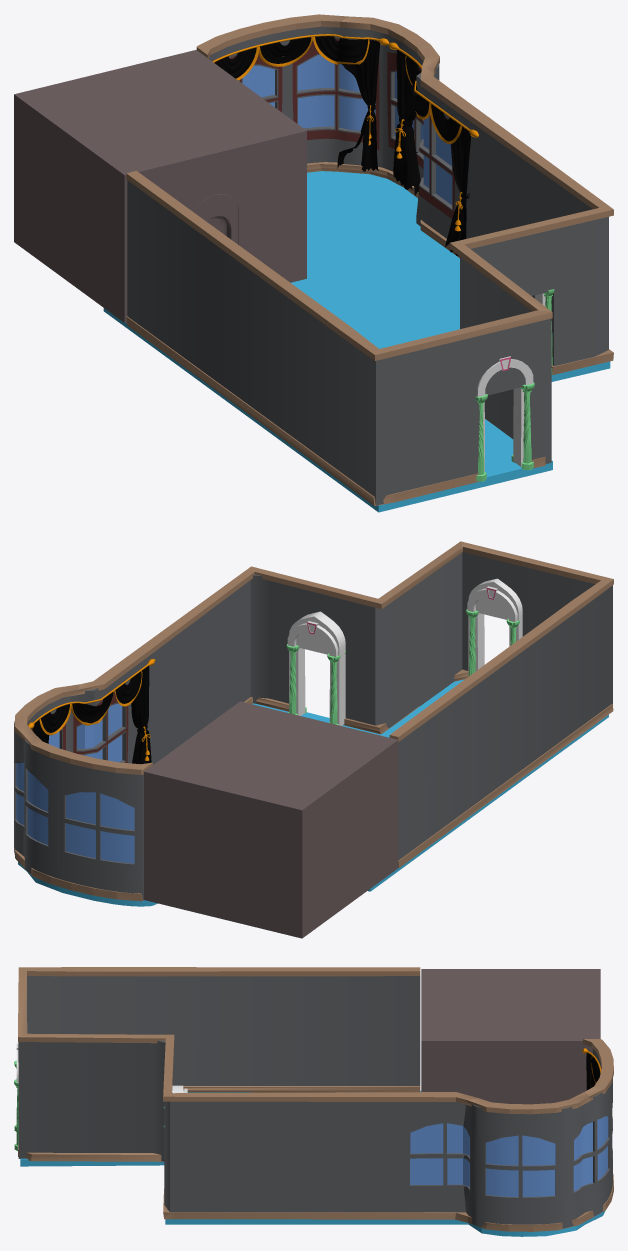
The model's file is BedroomWorkRoom.fbx.
3 views of the same model, one above another, from view 1: azimuth 30°, elevation 25°; view 2: azimuth 150°, elevation 25°; view 3: azimuth 270°, elevation 25° (orthographic). The views are drawn at different scales.
Visible parts, largest first — view 1: RoundWindow.003, SecrentDoor, Floor.001, top rims, BézierCurve.002, windows.004, glass, DoorWayWithArch.001, Retopo_Door; view 2: RoundWindow.003, SecrentDoor, top rims, windows.004, glass, DoorWayWithArch.006, BézierCurve.002, DoorWayWithArch.001, Floor.001; view 3: RoundWindow.003, SecrentDoor, top rims, windows.004, glass, Floor.001, BézierCurve.002.
Part boxes in pixels (<box>): RoundWindow.003: <box>127,113,608,505</box>; SecrentDoor: <box>14,50,306,322</box>; Floor.001: <box>103,171,610,512</box>; top rims: <box>126,14,613,505</box>; BézierCurve.002: <box>212,34,478,255</box>; windows.004: <box>197,26,457,238</box>; glass: <box>242,55,452,204</box>; DoorWayWithArch.001: <box>475,356,534,481</box>; Retopo_Door: <box>194,194,238,244</box>; RoundWindow.003: <box>130,552,612,860</box>; SecrentDoor: <box>144,701,398,938</box>; top rims: <box>14,541,613,901</box>; windows.004: <box>14,670,143,899</box>; glass: <box>16,704,134,863</box>; DoorWayWithArch.006: <box>286,611,345,725</box>; BézierCurve.002: <box>28,659,155,764</box>; DoorWayWithArch.001: <box>466,578,522,676</box>; Floor.001: <box>18,679,608,906</box>; RoundWindow.003: <box>18,976,420,1212</box>; SecrentDoor: <box>421,969,600,1104</box>; top rims: <box>18,967,613,1231</box>; windows.004: <box>400,1049,612,1228</box>; glass: <box>410,1116,608,1196</box>; Floor.001: <box>20,1090,605,1236</box>; BézierCurve.002: <box>582,1048,601,1090</box>.
Size of the model in its own units: 1270 by 535 by 2261.
